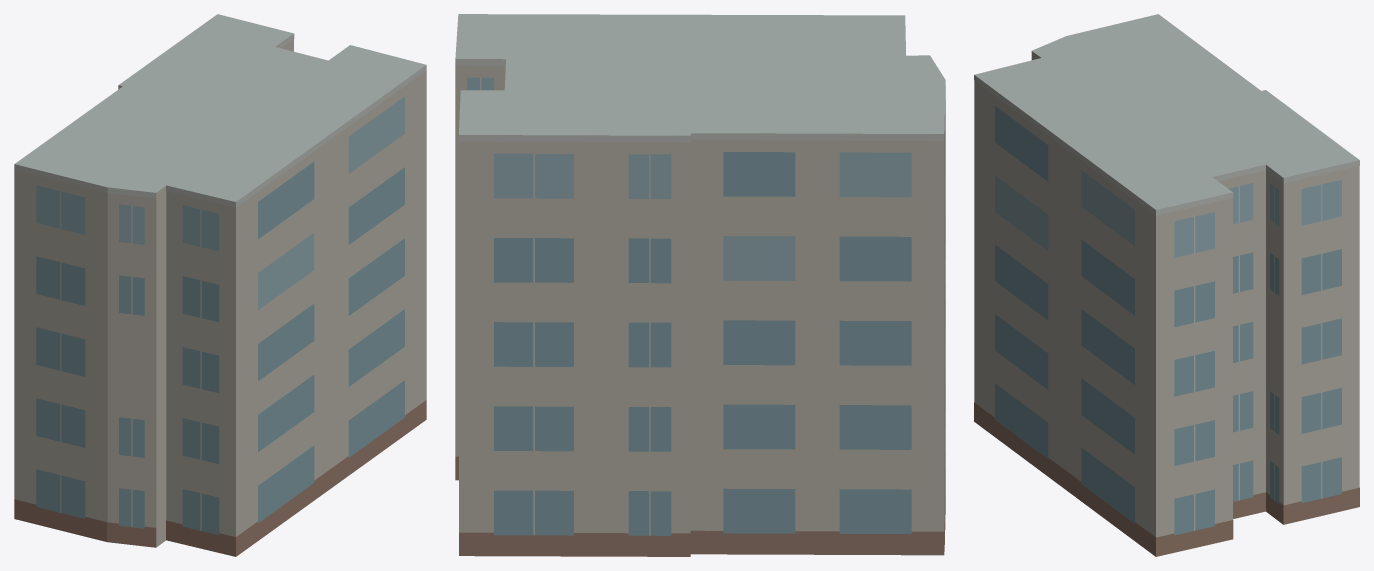
Rendered from survey-upis-32528623.glb.
3 views of the same model, side by side, from view 1: azimuth 30°, elevation 25°; view 2: azimuth 150°, elevation 25°; view 3: azimuth 270°, elevation 25° (orthographic). The views are drawn at different scales.
Parts seen in each view (by area): view 1: survey-upis-32528623.tmp; view 2: survey-upis-32528623.tmp; view 3: survey-upis-32528623.tmp.
Boxes of the visible parts, <box> form: survey-upis-32528623.tmp: <box>14,14,426,556</box>; survey-upis-32528623.tmp: <box>455,14,945,556</box>; survey-upis-32528623.tmp: <box>974,14,1359,556</box>.
Bounding box in the file's own units: 18.37 × 15.15 × 15.27.
